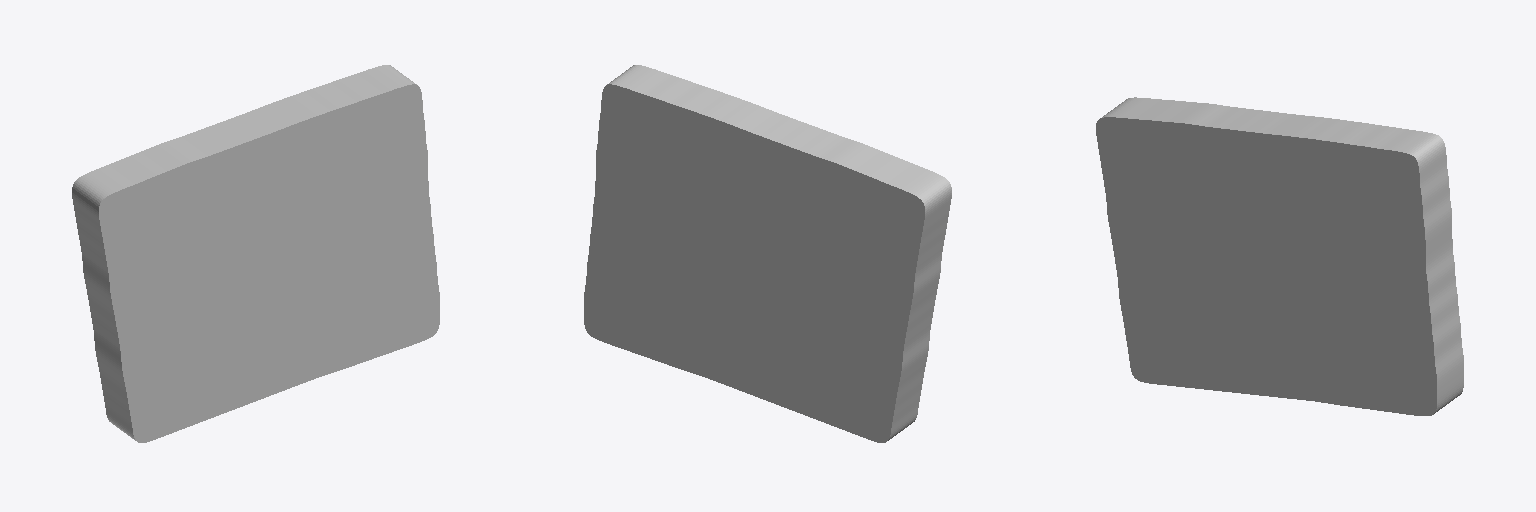
3 views of the same model, side by side, from view 1: azimuth 30°, elevation 25°; view 2: azimuth 150°, elevation 25°; view 3: azimuth 330°, elevation 25° (orthographic).
Visible parts, largest first — view 1: 平面; view 2: 平面; view 3: 平面.
Boxes of the visible parts, <box> form: 平面: <box>72,65,439,442</box>; 平面: <box>584,65,951,442</box>; 平面: <box>1096,97,1463,415</box>.
Size of the model in its own units: 1.47 by 1.2 by 0.2.